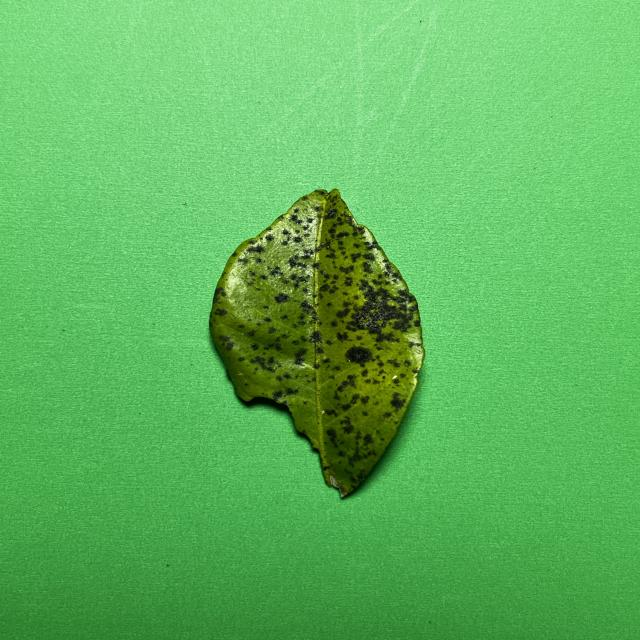sooty_mold: (210, 189, 424, 480)
